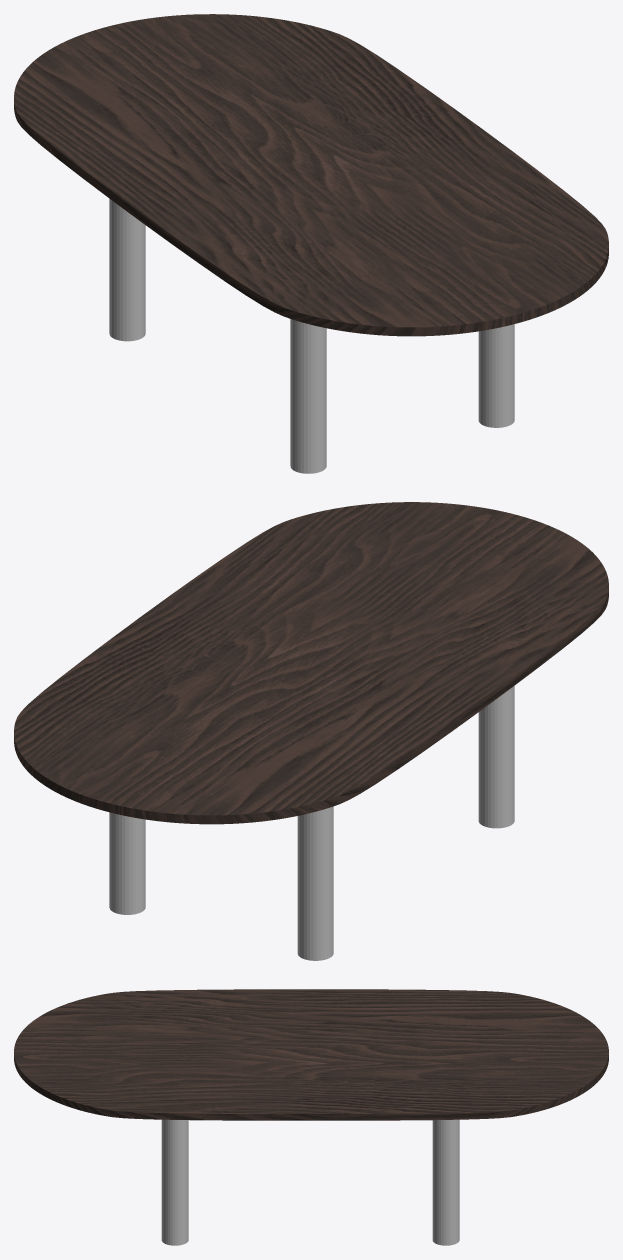
File: Table.fbx
3 views of the same model, one above another, from view 1: azimuth 30°, elevation 25°; view 2: azimuth 150°, elevation 25°; view 3: azimuth 270°, elevation 25° (orthographic). The views are drawn at different scales.
Parts seen in each view (by area): view 1: Table; view 2: Table; view 3: Table.
Boxes of the visible parts, <box> form: Table: <box>14,14,608,473</box>; Table: <box>14,502,608,960</box>; Table: <box>14,989,608,1245</box>.
Bounding box in the file's own units: 199 × 114 × 400.
